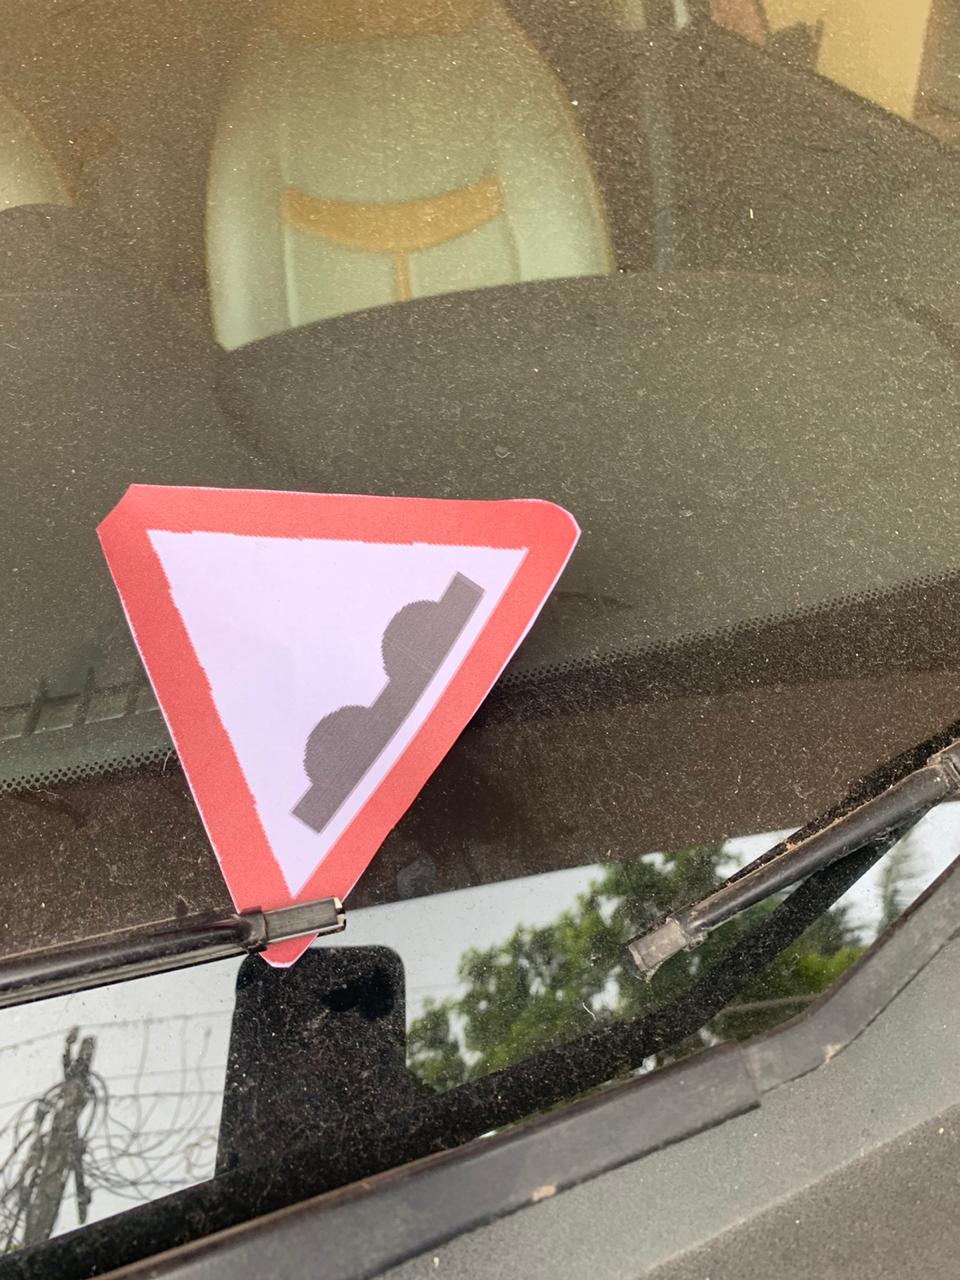UNEVEN ROAD: (38, 368, 601, 975)
